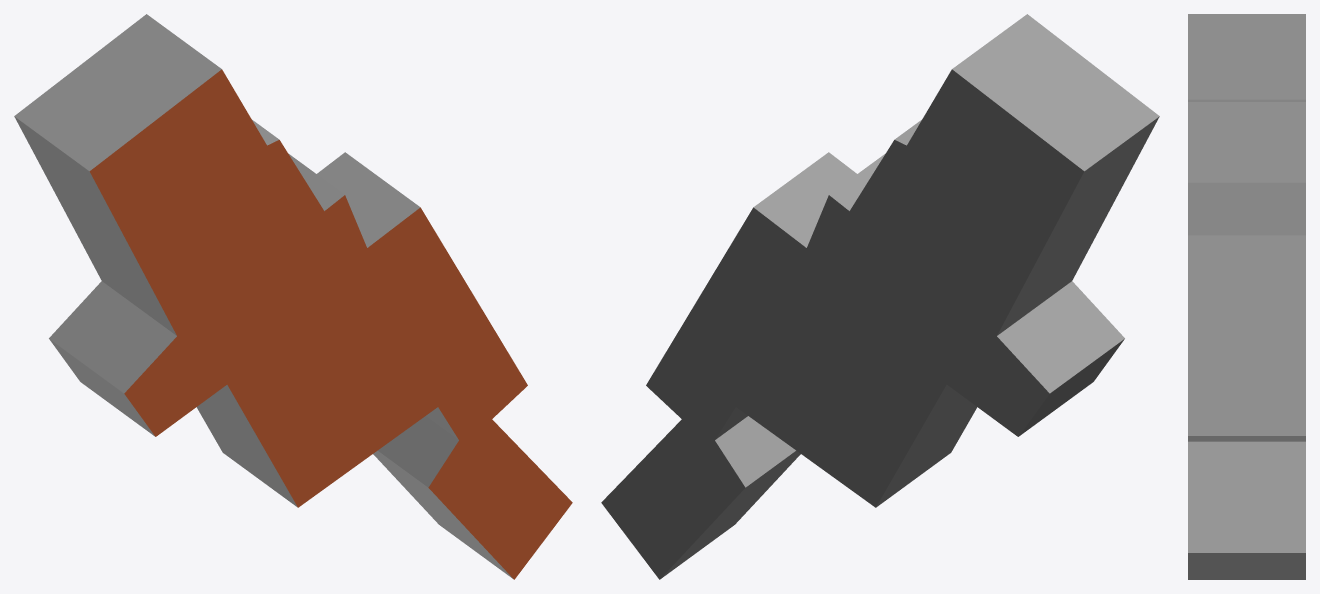
The model's file is construction_6783_assumed_A_Casa_h6m.obj.
The picture shows the model from 3 angles, left to right: view 1: azimuth 30°, elevation 25°; view 2: azimuth 150°, elevation 25°; view 3: azimuth 270°, elevation 25°; orthographic projection. The views are drawn at different scales.
Visible parts, largest first — view 1: construction_6783_assumed_A_Casa; view 2: construction_6783_assumed_A_Casa; view 3: construction_6783_assumed_A_Casa.
Part boxes in pixels (<box>): construction_6783_assumed_A_Casa: <box>14,14,572,579</box>; construction_6783_assumed_A_Casa: <box>601,14,1159,579</box>; construction_6783_assumed_A_Casa: <box>1188,14,1305,579</box>.
Size of the model in its own units: 22.2 by 25.56 by 6.
